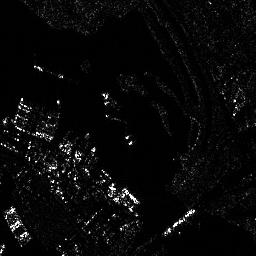ship: (161, 206, 197, 236)
